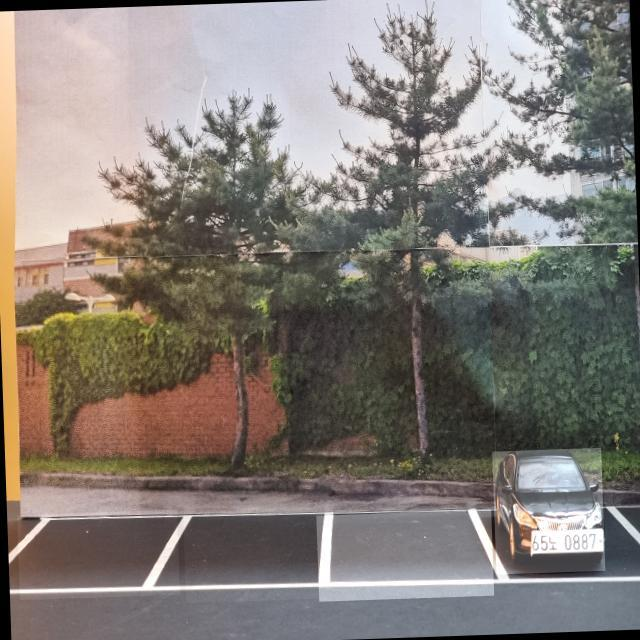empty: (316, 509, 494, 601), (183, 502, 332, 604), (17, 510, 180, 600)
occupied: (492, 447, 605, 574)
